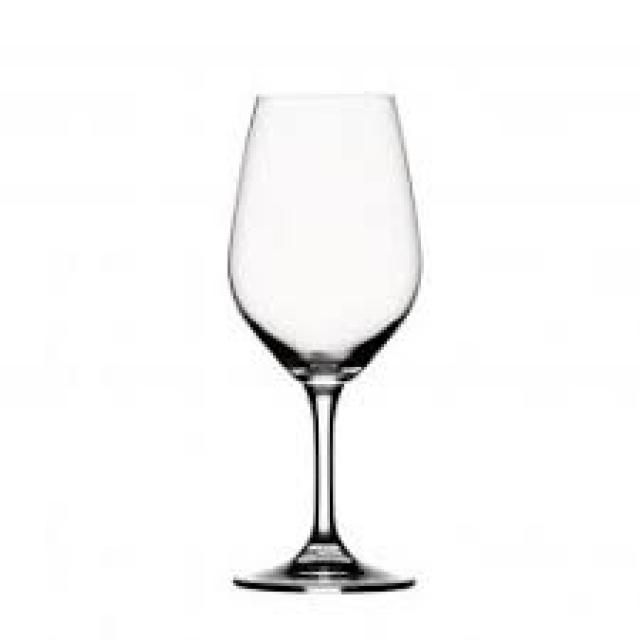glass: (225, 91, 418, 586)
